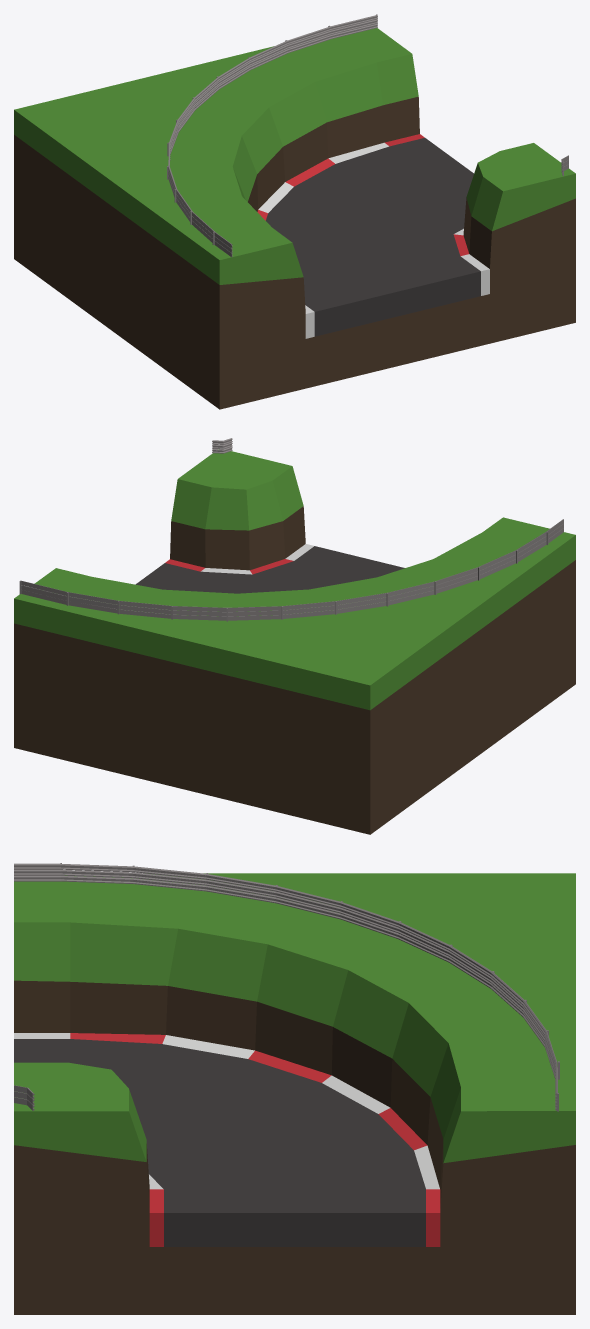
Rendered from tiles_tile-race-track-cliff-curve.fbx.
The picture shows the model from 3 angles, top to bottom: view 1: azimuth 30°, elevation 25°; view 2: azimuth 150°, elevation 25°; view 3: azimuth 270°, elevation 25°; orthographic projection. The views are drawn at different scales.
Parts seen in each view (by area): view 1: tiles_tile_race_track_cliff_curve; view 2: tiles_tile_race_track_cliff_curve; view 3: tiles_tile_race_track_cliff_curve.
Boxes of the visible parts, x1=… form: tiles_tile_race_track_cliff_curve: x1=14, y1=14, x2=575, y2=409; tiles_tile_race_track_cliff_curve: x1=14, y1=438, x2=575, y2=834; tiles_tile_race_track_cliff_curve: x1=14, y1=863, x2=575, y2=1314.
Bounding box in the file's own units: 200 × 86.86 × 200.
